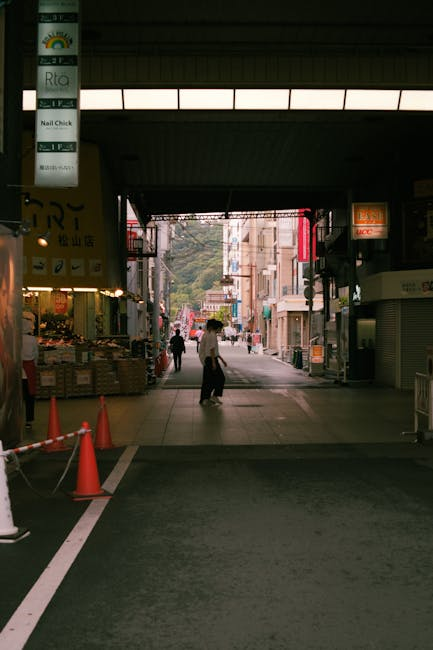traffic_cone: (68, 420, 113, 501), (0, 440, 31, 544), (41, 395, 72, 453), (92, 395, 118, 451)
